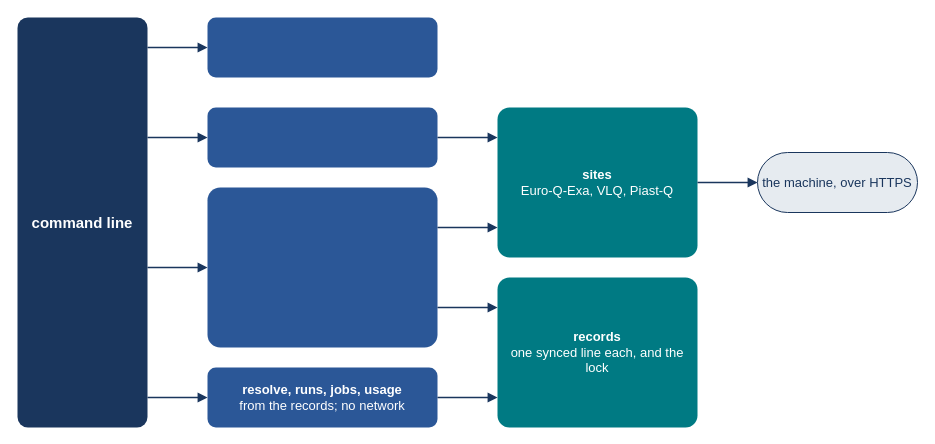
This 935x444 diagram has some shape labels left out. The centre of each missing label's shape, as x and y in pixels:
"check --live one read of the machine, no job" goes at point (322, 137).
"dry-run manifest, config, circuit text; no network" goes at point (322, 47).
"send: the runner the send loop, the rules, the wait" goes at point (322, 267).
